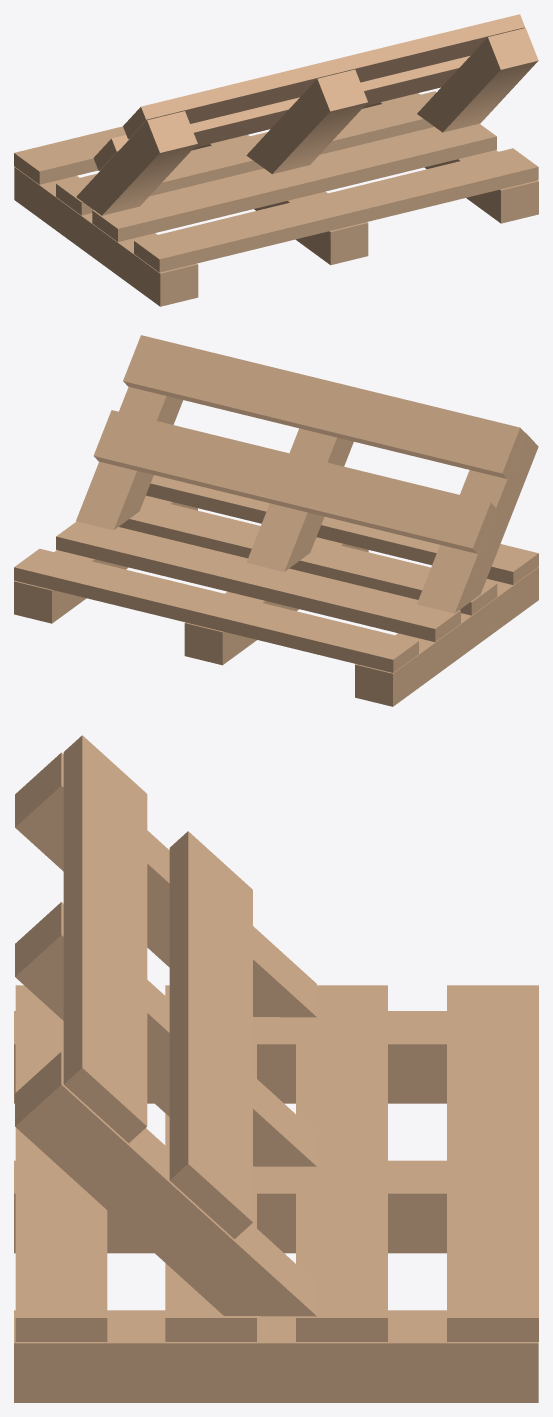
File: Palette-Seat.fbx
The picture shows the model from 3 angles, top to bottom: view 1: azimuth 30°, elevation 25°; view 2: azimuth 150°, elevation 25°; view 3: azimuth 270°, elevation 25°; orthographic projection. The views are drawn at different scales.
Parts seen in each view (by area): view 1: Palette_Couch; view 2: Palette_Couch; view 3: Palette_Couch.
Boxes of the visible parts, box(x1,y1,x2,y2) form: Palette_Couch: box(14, 14, 538, 306); Palette_Couch: box(14, 335, 538, 706); Palette_Couch: box(14, 735, 538, 1402).
Bounding box in the file's own units: 120 × 56.37 × 80.03.
